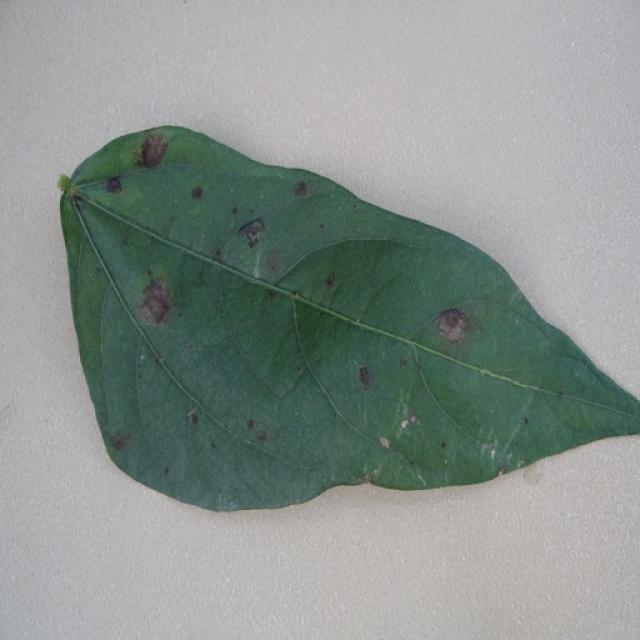Anthracnose: (427, 307, 477, 344), (136, 278, 174, 326), (137, 132, 170, 169), (238, 218, 266, 248), (58, 177, 81, 199), (110, 428, 132, 450), (292, 179, 312, 198), (105, 176, 124, 194), (358, 365, 372, 387), (191, 186, 204, 200), (256, 431, 267, 443), (326, 276, 334, 286)
Blackgram: (58, 126, 639, 515)
